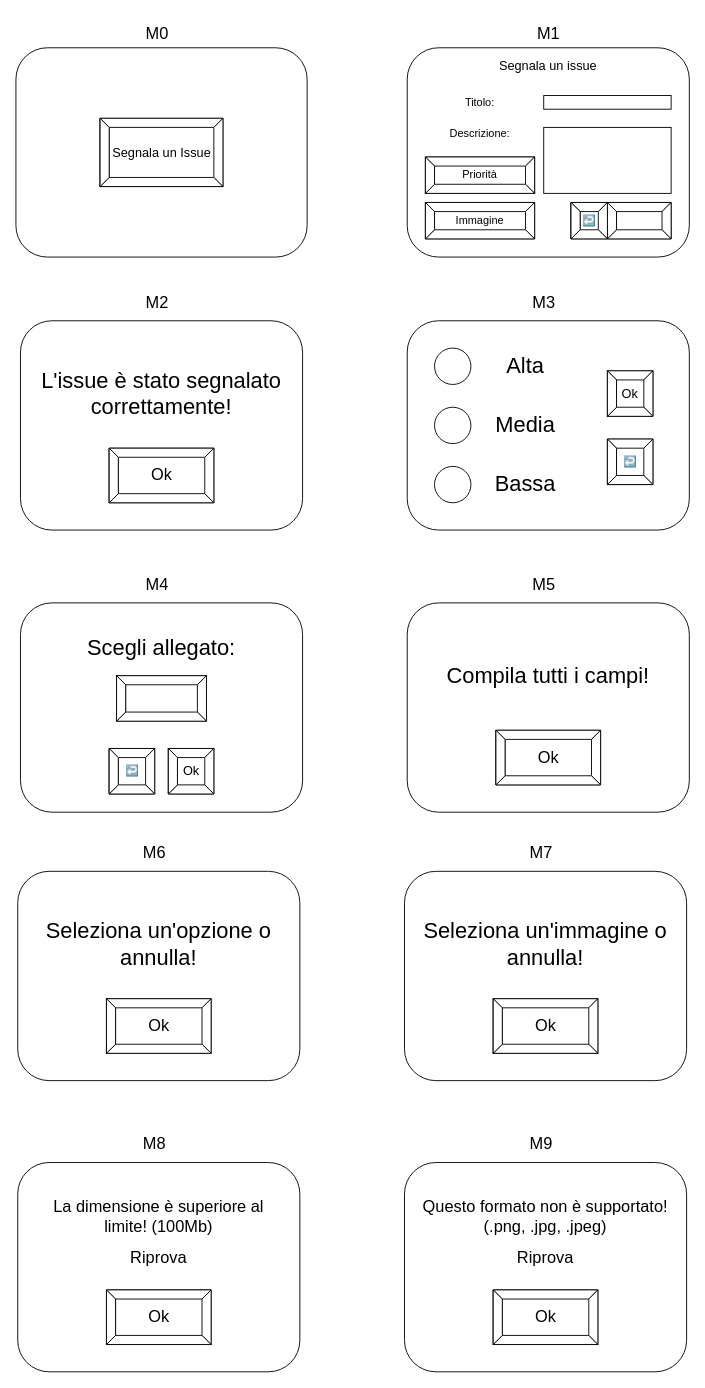
The diagram is 705 pixels wide and 1388 high, and some of its shapes have lost their labels. Each missing label, with the centre of its shape:
"Segnala" goes at pixel 639 220.
"Sfoglia" goes at pixel 161 698.
